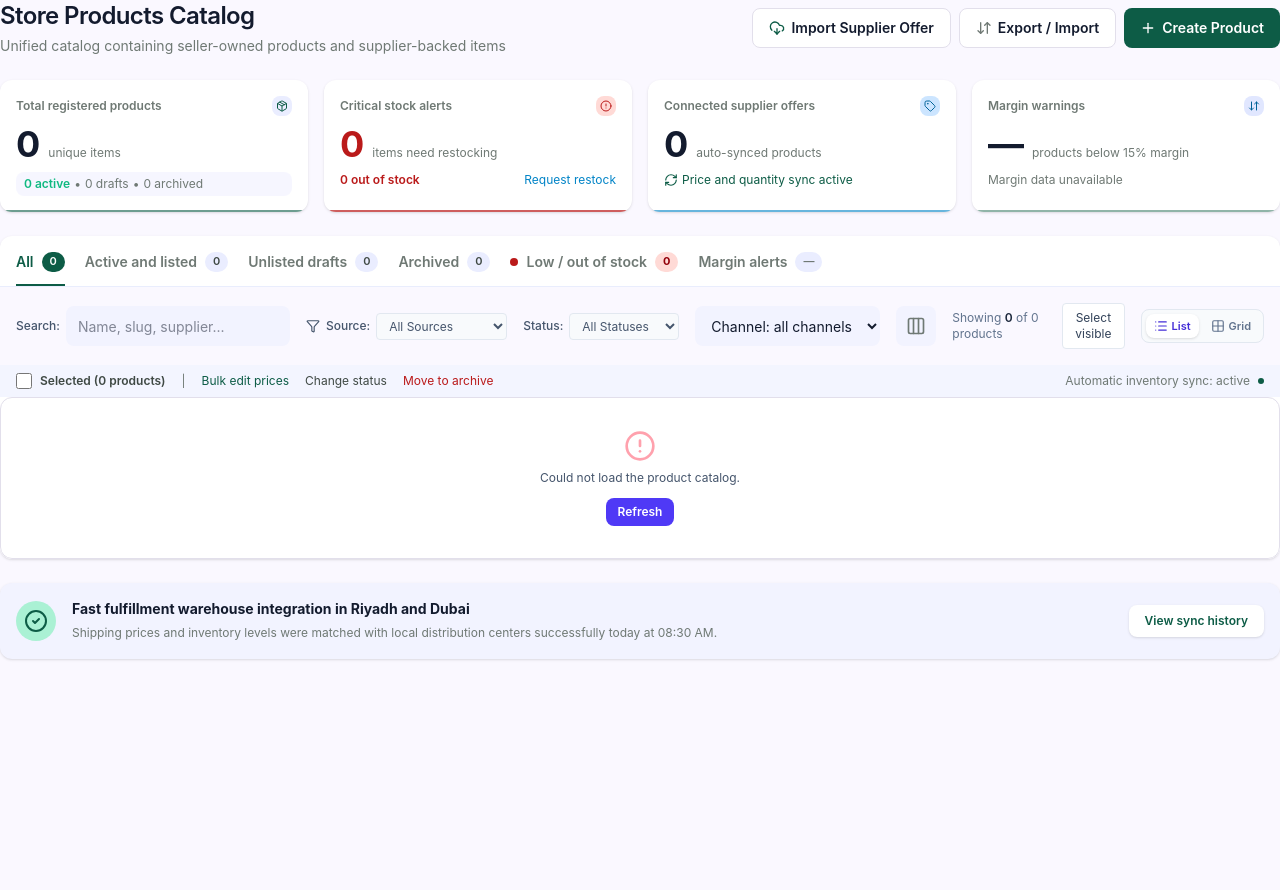
Scenario: Catalog states, RTL, and responsive integrity (US3) › renders the error state with retry and recovers
Check: the text "Could not load the product catalog." is shown, box [540,470,740,485]
Click the button "Refresh" at [640, 512], box [606,498,674,526]
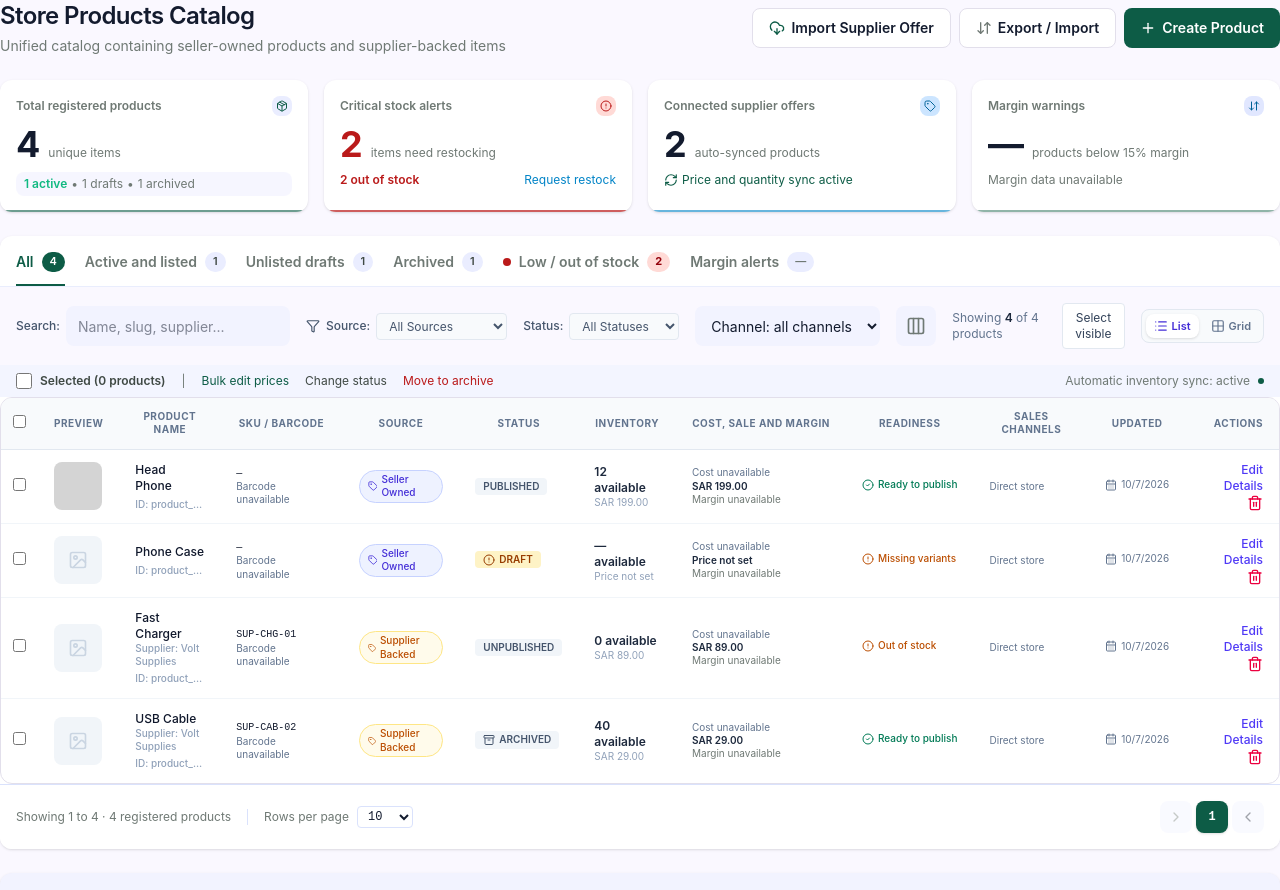
Check: the link "Head Phone" is shown, box [135,462,172,493]
